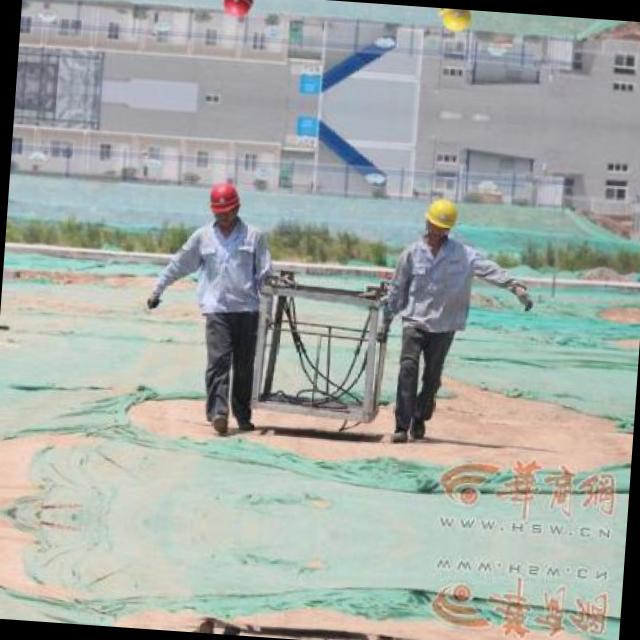helmet: (416, 188, 461, 246), (202, 172, 246, 229), (429, 7, 474, 42), (215, 0, 258, 27)
